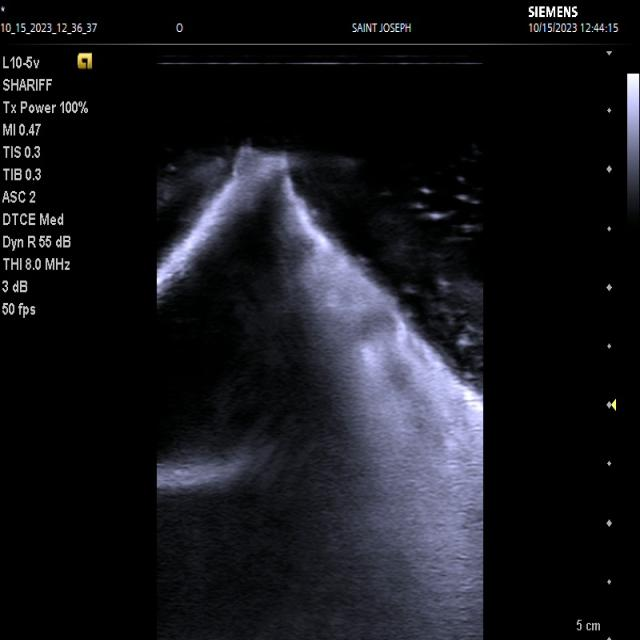tissue: (158, 159, 484, 640)
